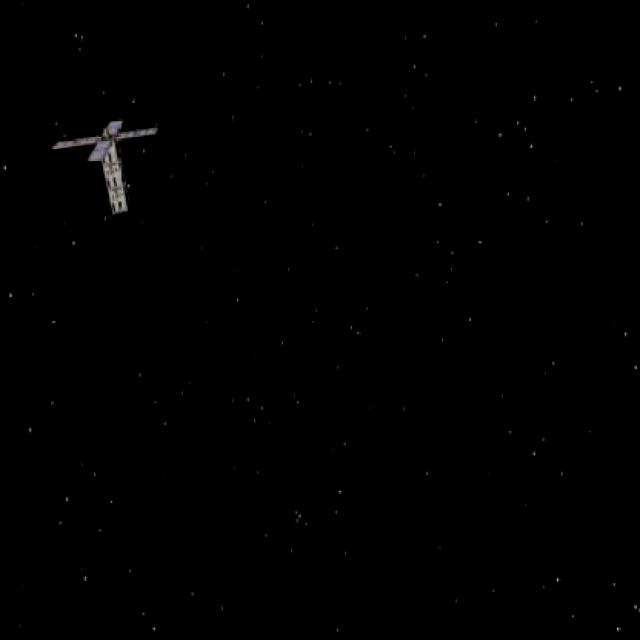satellite: (48, 102, 173, 219)
